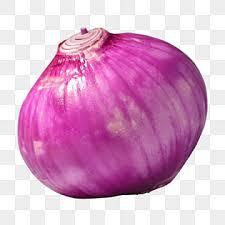non-mango: (16, 26, 208, 199)
